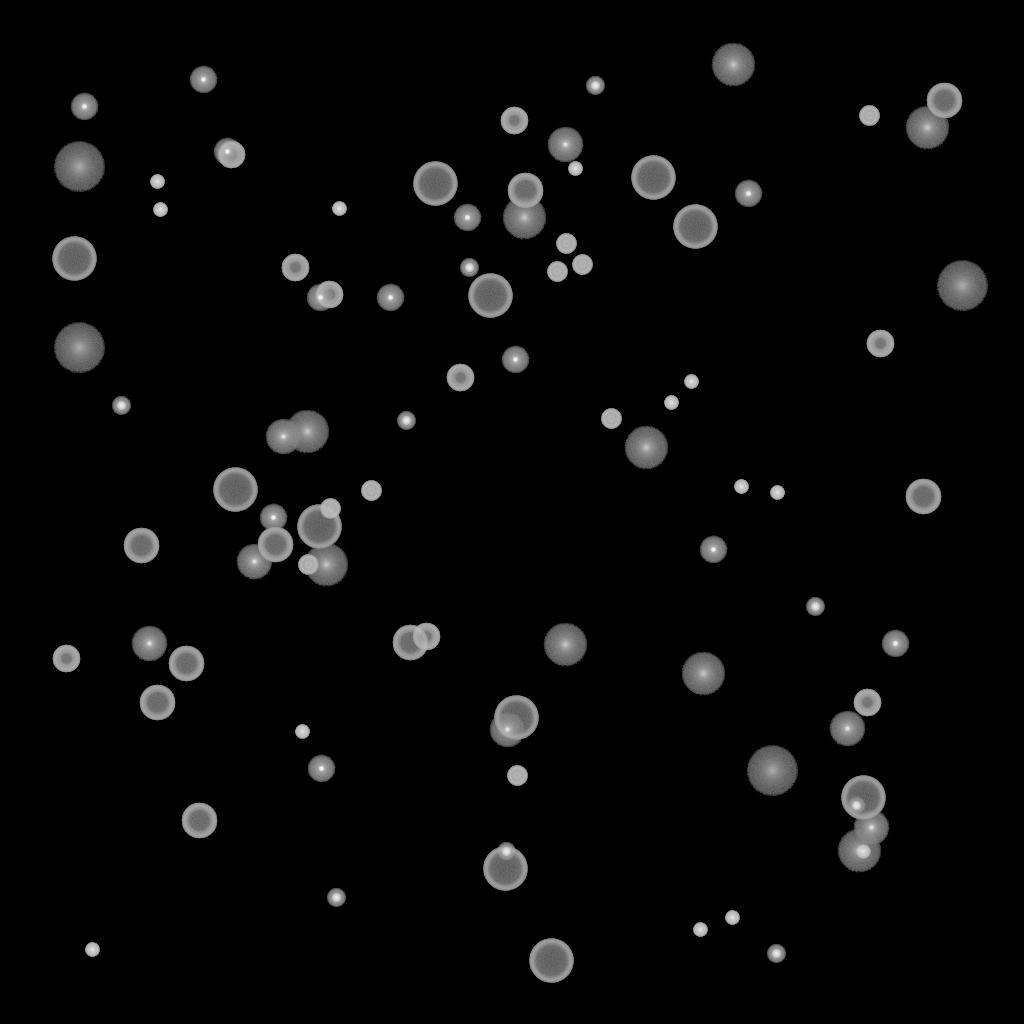depth:-10: (881, 630, 909, 658), (376, 284, 404, 312), (453, 204, 481, 232), (70, 93, 98, 121), (259, 504, 287, 532), (306, 284, 334, 312), (307, 755, 335, 783), (699, 536, 727, 564), (734, 180, 762, 208), (501, 346, 529, 374), (213, 138, 241, 166), (189, 66, 217, 94)
depth:-20: (460, 259, 478, 277), (586, 77, 604, 95), (767, 945, 785, 963), (847, 797, 865, 815), (497, 843, 515, 861), (806, 598, 824, 616), (397, 412, 415, 430), (327, 889, 345, 907), (112, 397, 130, 415)
depth:-30: (725, 911, 739, 925), (664, 396, 678, 410), (770, 486, 784, 500), (153, 203, 167, 217), (568, 162, 582, 176), (295, 725, 309, 739), (734, 480, 748, 494), (684, 375, 698, 389), (693, 923, 707, 937), (150, 175, 164, 189), (856, 845, 870, 859), (85, 943, 99, 957), (332, 202, 346, 216)
depth:-40: (601, 409, 621, 429), (320, 499, 340, 519), (298, 555, 318, 575), (556, 234, 576, 254), (859, 106, 879, 126), (507, 766, 527, 786), (547, 262, 567, 282), (572, 255, 592, 275), (361, 481, 381, 501)
depth:-50: (446, 364, 474, 392), (217, 141, 245, 169), (853, 689, 881, 717), (500, 107, 528, 135), (412, 623, 440, 651), (315, 281, 343, 309), (281, 254, 309, 282), (866, 330, 894, 358), (52, 645, 80, 673)
depth:-60: (392, 625, 428, 661), (257, 527, 293, 563), (926, 83, 962, 119), (905, 479, 941, 515), (139, 685, 175, 721), (123, 528, 159, 564), (507, 173, 543, 209), (181, 803, 217, 839), (168, 646, 204, 682)
depth:-70: (841, 776, 885, 820), (52, 237, 96, 281), (297, 505, 341, 549), (673, 205, 717, 249), (468, 274, 512, 318), (529, 939, 573, 983), (494, 696, 538, 740), (413, 162, 457, 206), (483, 847, 527, 891), (631, 156, 675, 200), (213, 468, 257, 512)
depth:0: (489, 712, 525, 748), (829, 711, 865, 747), (265, 419, 301, 455), (547, 127, 583, 163), (131, 626, 167, 662), (853, 810, 889, 846), (236, 544, 272, 580)
depth:10: (543, 623, 587, 667), (905, 106, 949, 150), (624, 426, 668, 470), (285, 410, 329, 454), (502, 196, 546, 240), (681, 652, 725, 696), (304, 543, 348, 587), (711, 43, 755, 87), (837, 829, 881, 873)
depth:20: (936, 261, 988, 311), (53, 142, 105, 192), (53, 323, 105, 373), (746, 746, 798, 796)
